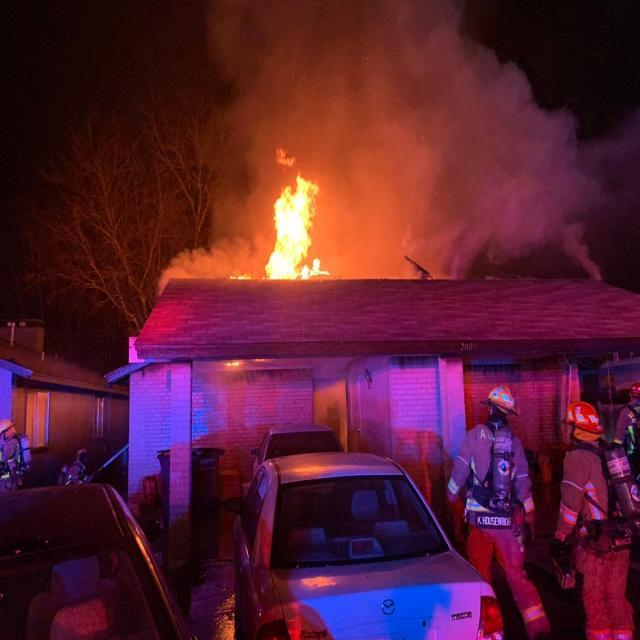Fire: (231, 144, 330, 282)
Smoke: (162, 238, 264, 290), (560, 219, 606, 284)
